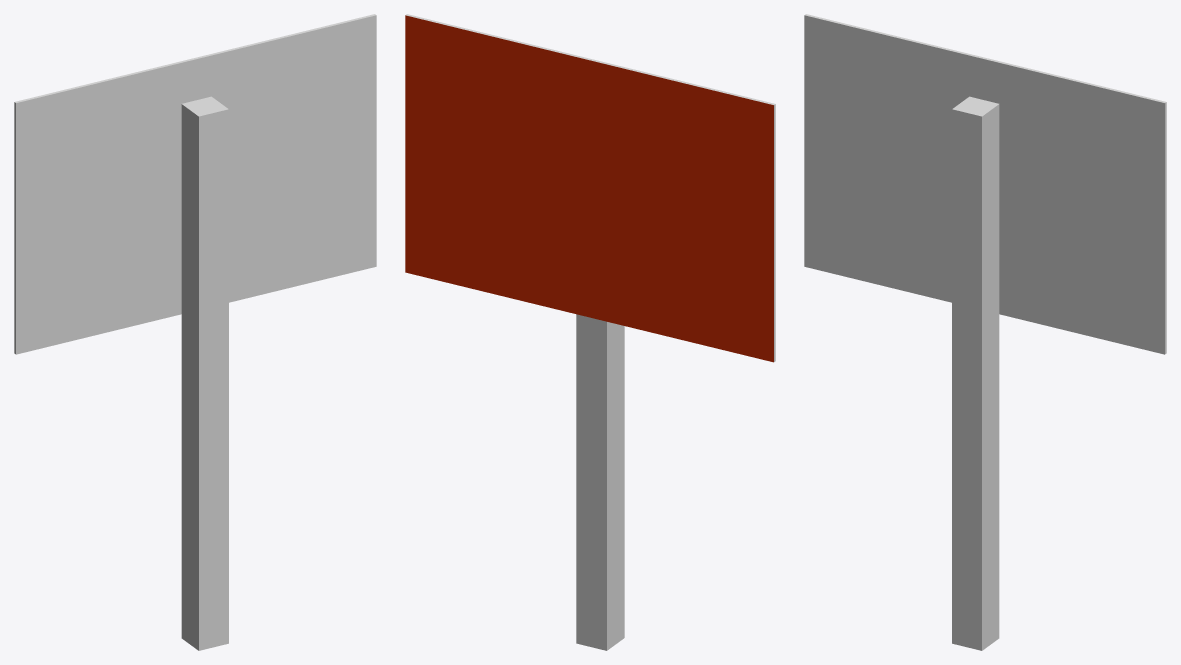
File: SignSquare.fbx
The picture shows the model from 3 angles, left to right: view 1: azimuth 30°, elevation 25°; view 2: azimuth 150°, elevation 25°; view 3: azimuth 330°, elevation 25°; orthographic projection. The views are drawn at different scales.
Parts seen in each view (by area): view 1: Cube, Cube.001; view 2: Cube.002, Cube.001, Cube; view 3: Cube, Cube.001.
Boxes of the visible parts, left/top/right/bottom form: Cube: left=14, top=14, right=376, bottom=354; Cube.001: left=181, top=96, right=228, bottom=650; Cube.002: left=405, top=15, right=773, bottom=362; Cube.001: left=576, top=314, right=624, bottom=650; Cube: left=405, top=14, right=775, bottom=361; Cube: left=804, top=14, right=1166, bottom=354; Cube.001: left=952, top=96, right=999, bottom=650.
Size of the model in its own units: 60 by 91.5 by 5.55.
